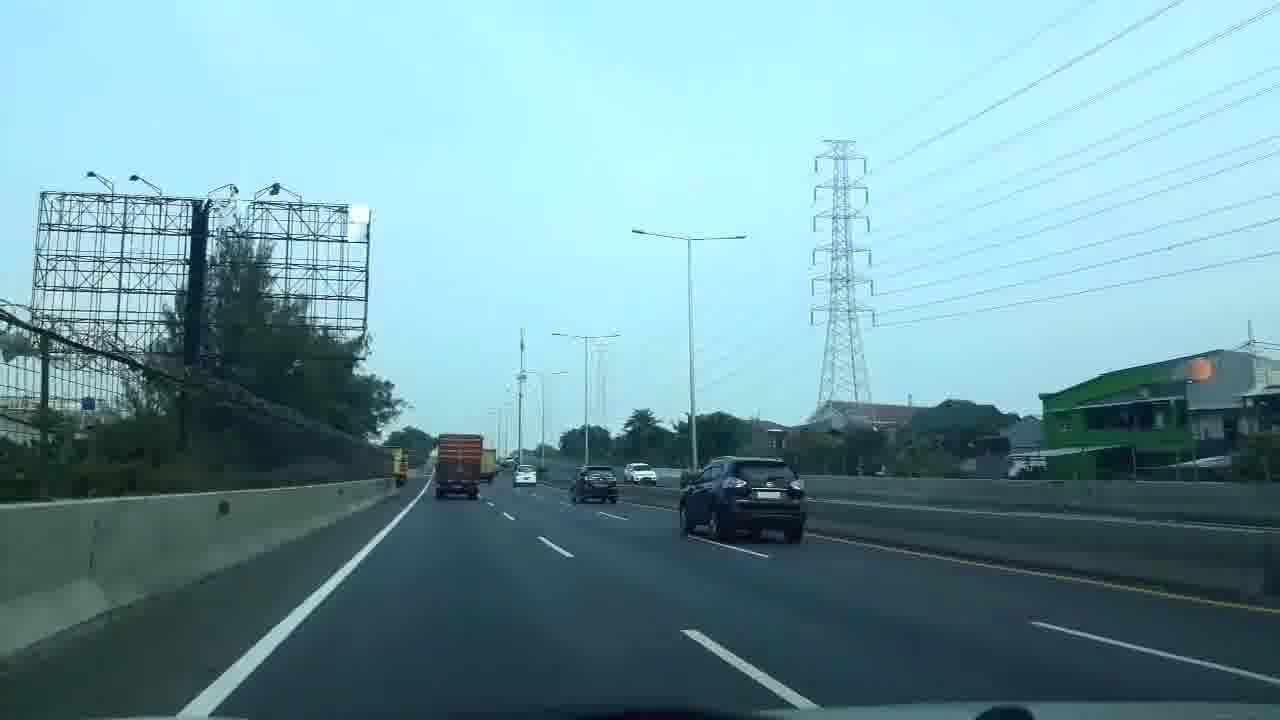plate_positive: (756, 491, 781, 499)
